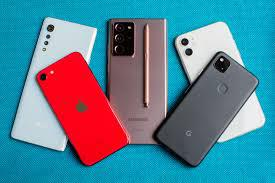Smartphone: (174, 29, 271, 142), (7, 24, 97, 144), (154, 61, 258, 162), (105, 7, 170, 147), (39, 61, 121, 162)
